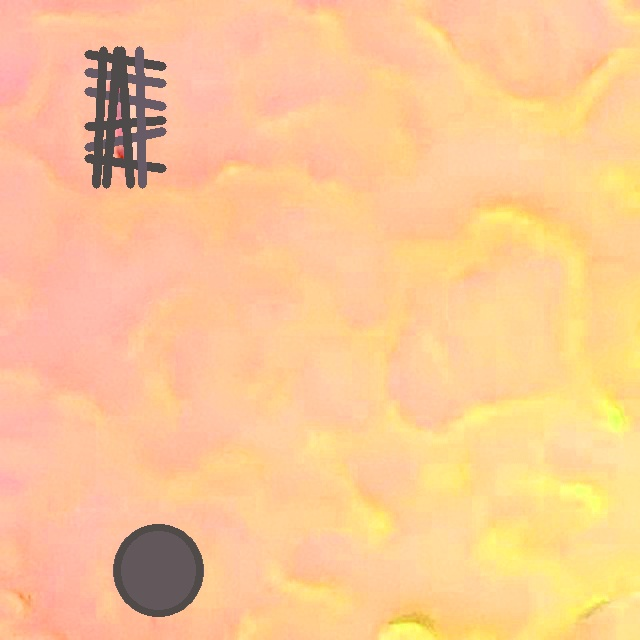open: (84, 46, 166, 188), (113, 525, 203, 616)
